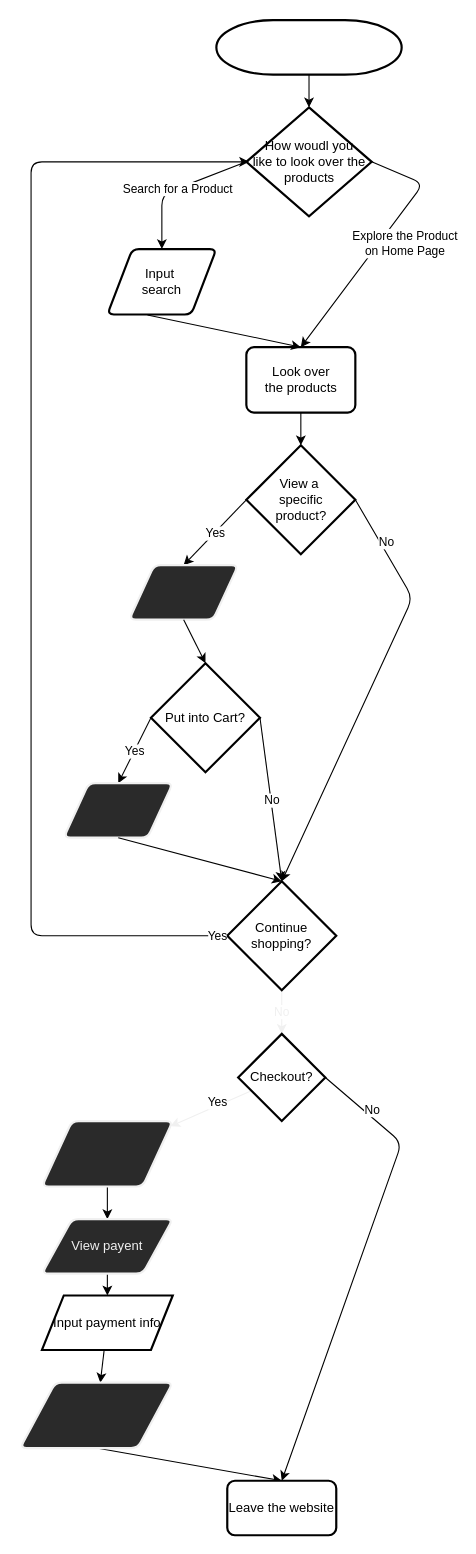
Image size: 476x1554. Some labels were removed from this diagram. The shapes that lost their labels are listed below. From the top down, each one's centre as x and y in pixels, then its label:
At point (308, 47): "Enter the website".
At point (183, 592): "Open webpage".
At point (117, 810): "Added to cart confirmation".
At point (106, 1153): "View cart screen".
At point (96, 1415): "Order Confirmation and Email receive".
